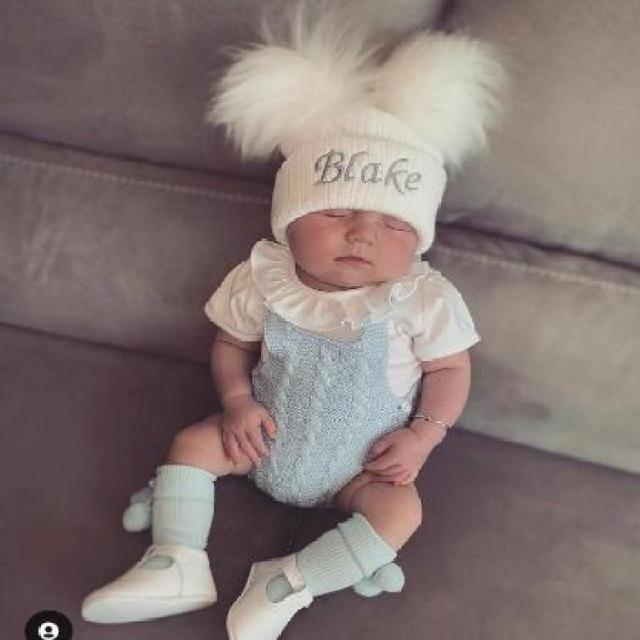baby: (75, 104, 472, 638)
